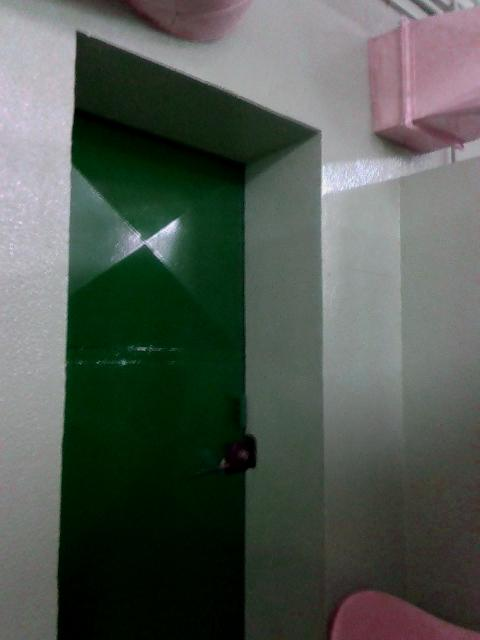closed_door: (58, 105, 244, 638)
